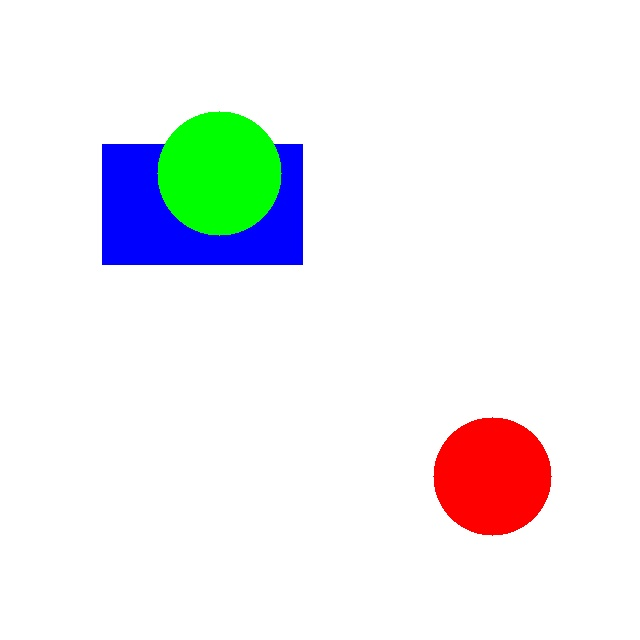cartao: (102, 144, 302, 264)
rosca_externa: (157, 111, 281, 235)
rosca_interna: (433, 417, 551, 535)
